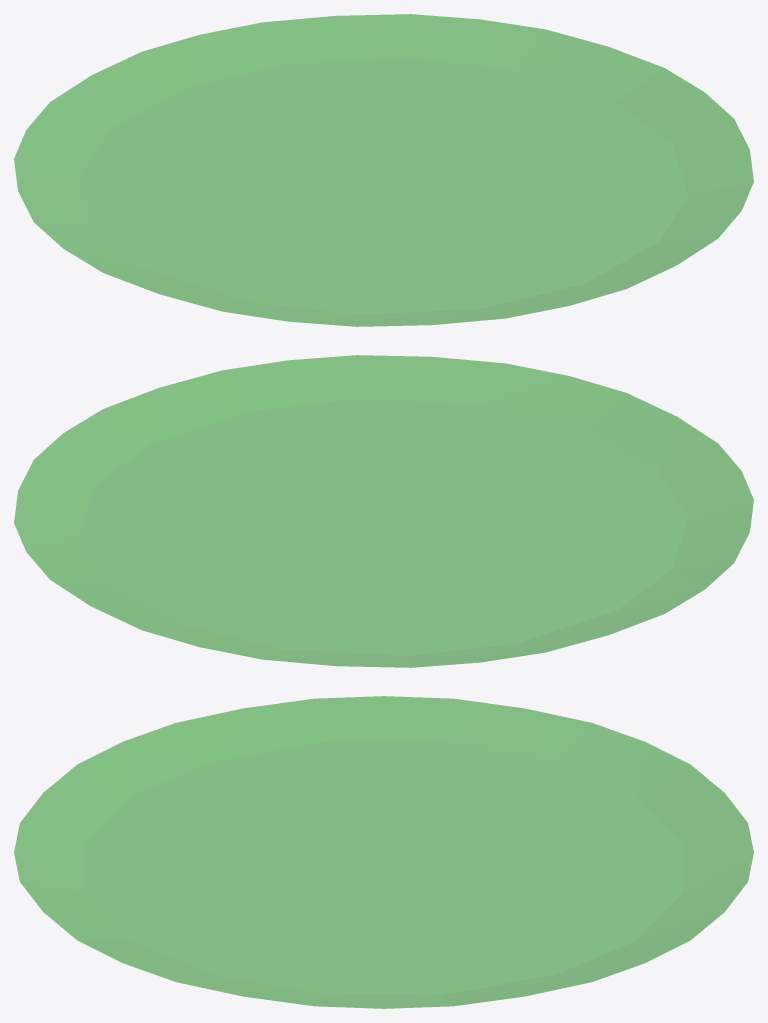
The model's file is colli_145_water.obj.
The picture shows the model from 3 angles, top to bottom: view 1: azimuth 30°, elevation 25°; view 2: azimuth 150°, elevation 25°; view 3: azimuth 270°, elevation 25°; orthographic projection.
Bounding box in the file's own units: 16.97 × 0.4014 × 16.97.
